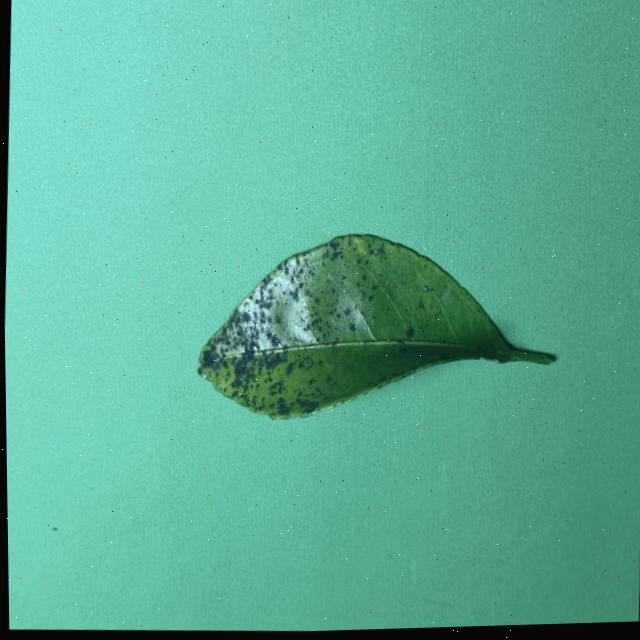sooty_mold: (197, 234, 552, 418)
